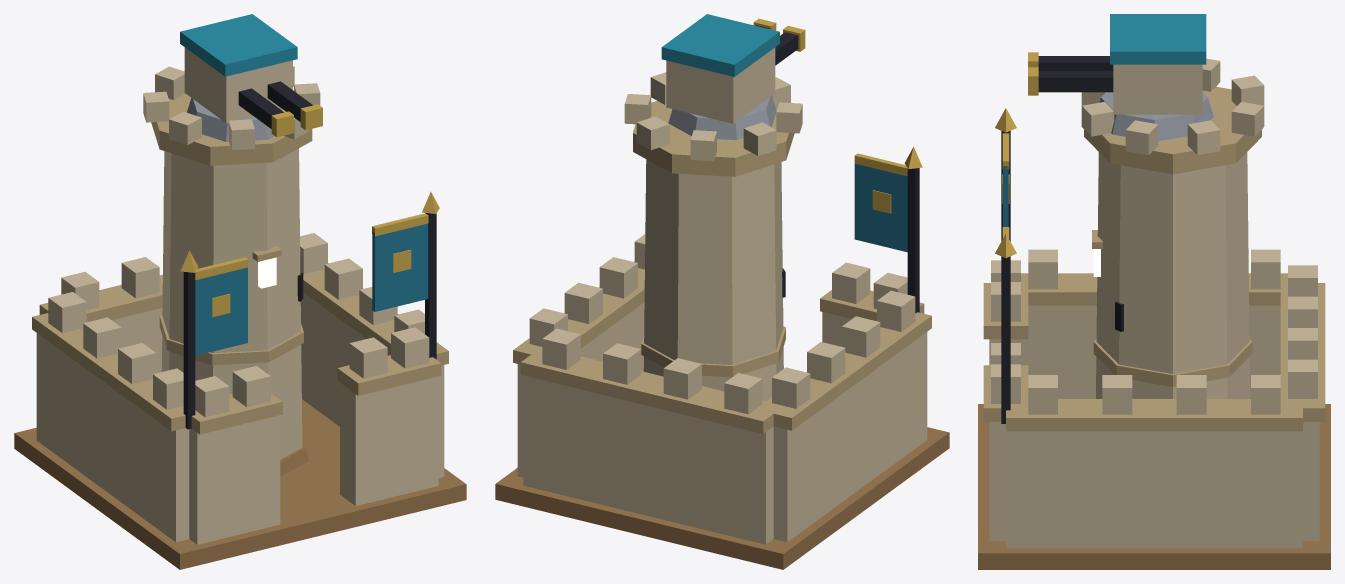
The model's file is outpost_t3.glb.
3 views of the same model, side by side, from view 1: azimuth 30°, elevation 25°; view 2: azimuth 150°, elevation 25°; view 3: azimuth 270°, elevation 25° (orthographic). The views are drawn at different scales.
Parts seen in each view (by area): view 1: body, part_turret; view 2: body, part_turret; view 3: body, part_turret.
Boxes of the visible parts, bbox=[...] form: body: bbox=[14, 66, 466, 569]; part_turret: bbox=[180, 14, 322, 141]; body: bbox=[495, 72, 949, 569]; part_turret: bbox=[661, 14, 805, 139]; body: bbox=[978, 58, 1330, 569]; part_turret: bbox=[1028, 14, 1213, 140].
Bounding box in the file's own units: 1.9 × 2.75 × 1.9.
